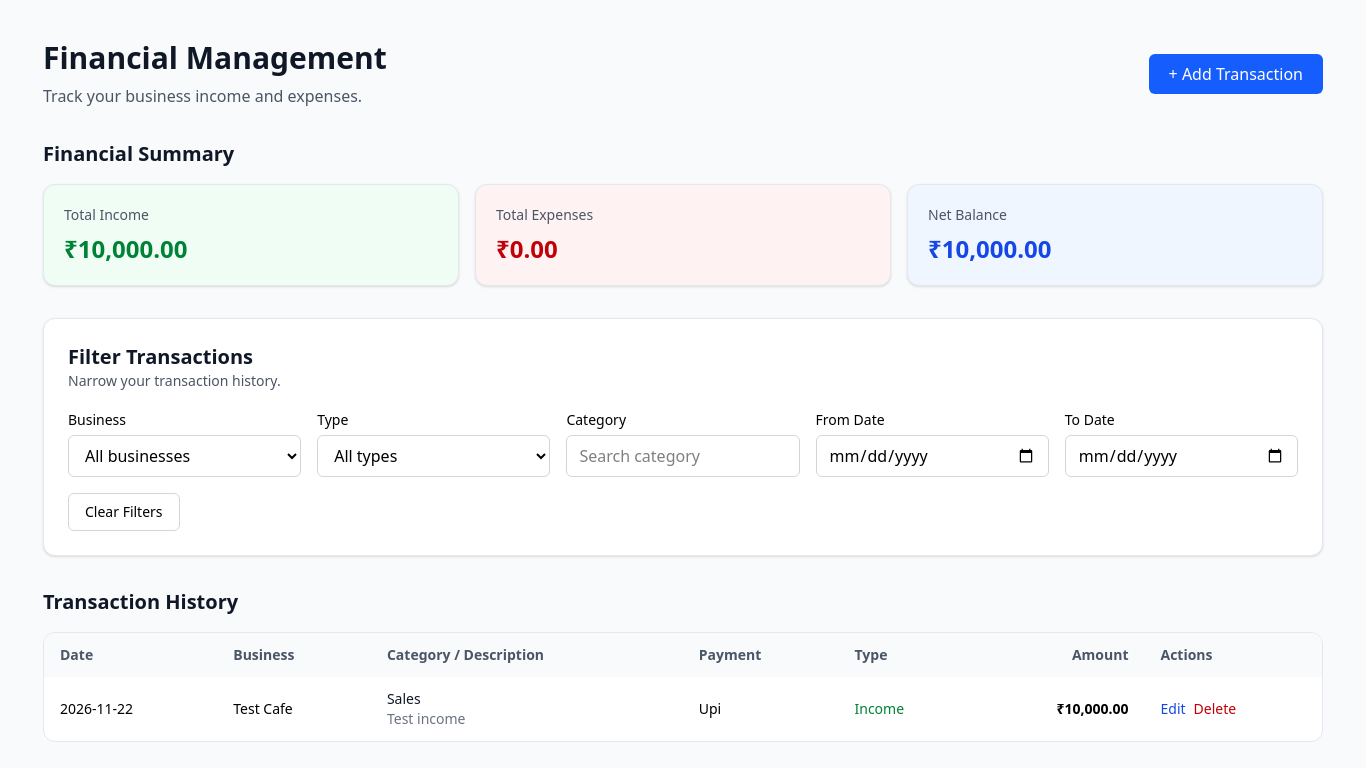
Test: TransactionsPage › shows a message when the selected date range is invalid
Type "2026-11-30" into the date field labelled "From Date" at (932, 456), box 816,435 -> 1049,477
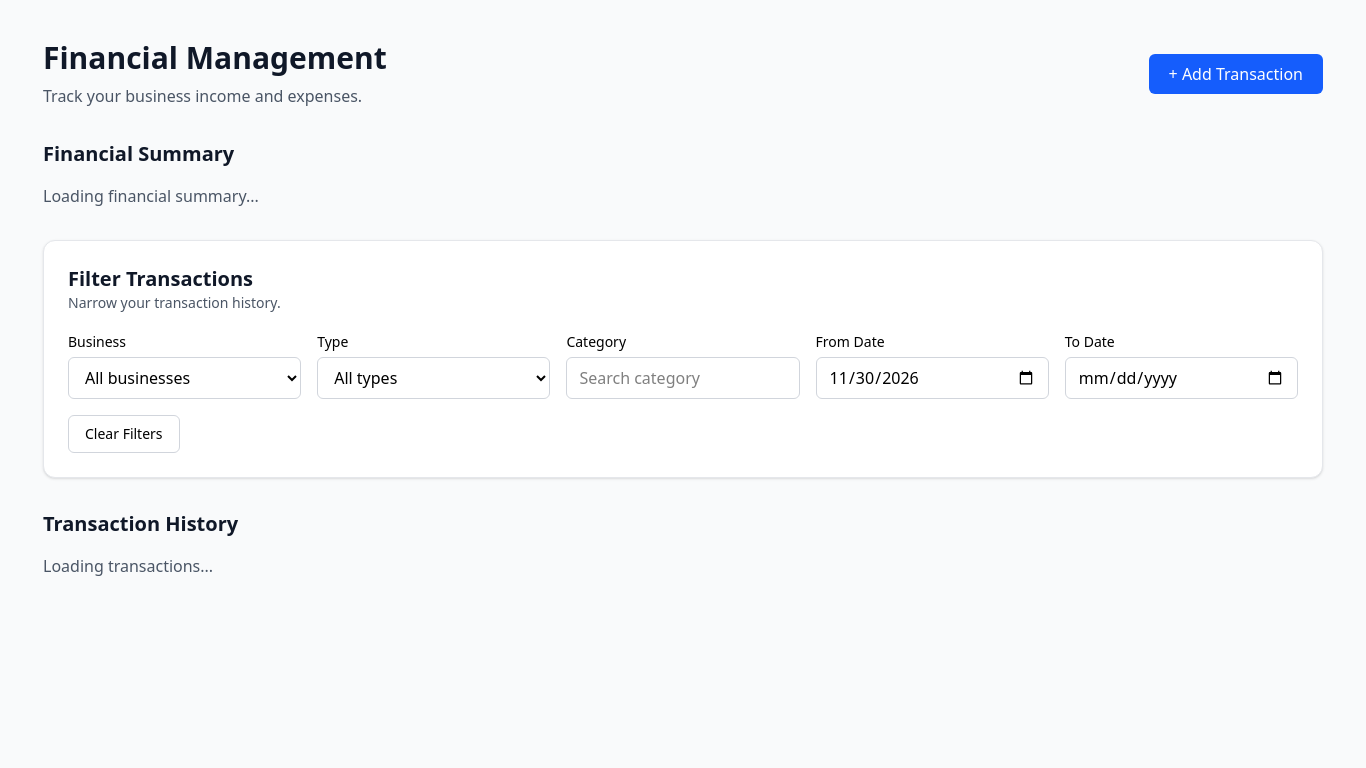
Type "2026-11-01" into the date field labelled "To Date" at (1181, 378), box 1065,357 -> 1298,399
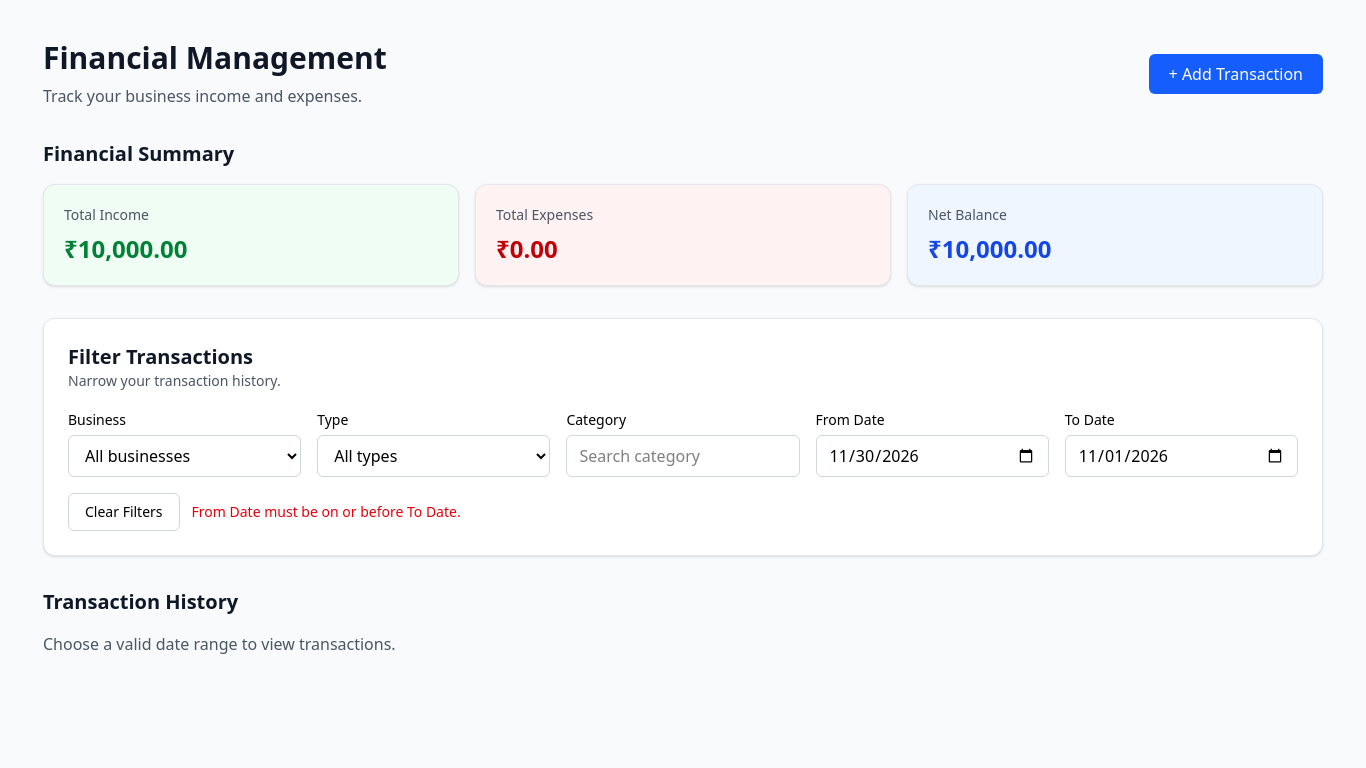
Check: the text "From Date must be on or before To Date." is shown, box 192,502 -> 461,522
Check: the text "Choose a valid date range to view transactions." is shown, box 43,633 -> 396,655
